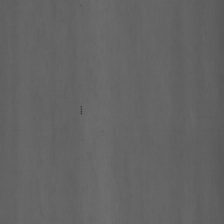oil_spot: (79, 103, 83, 117)
